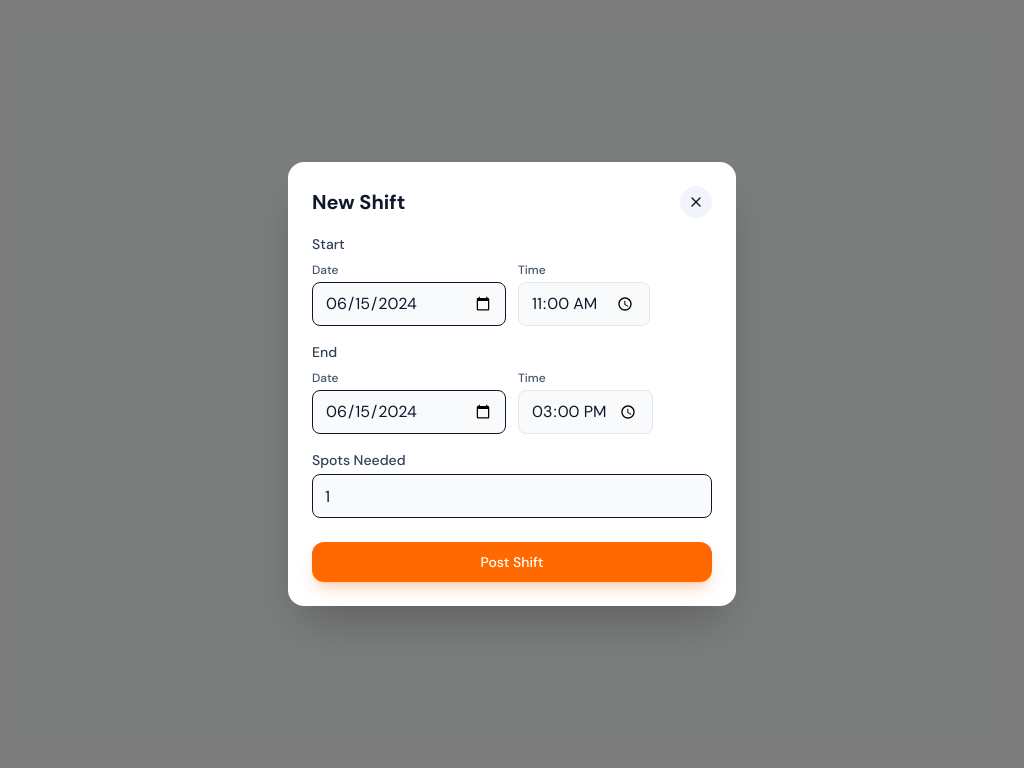
Test: CreateShiftModal › validation › shows error when end time is before start time
Note: Set end time before start time (start is 11:00, set end to 10:00)
Replace the text in the time field with test id "end-time-input" with "10:00" at (585, 412), box [518,390,653,434]
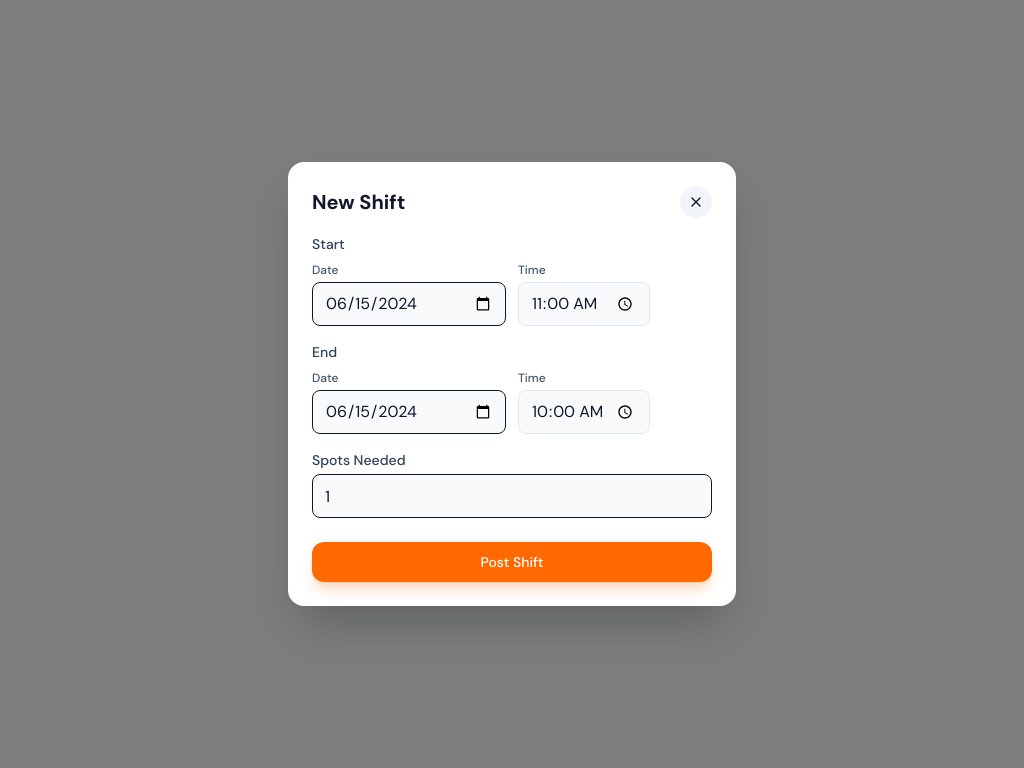
Click the button "Post Shift".
click(512, 562)  # box [312,542,712,582]
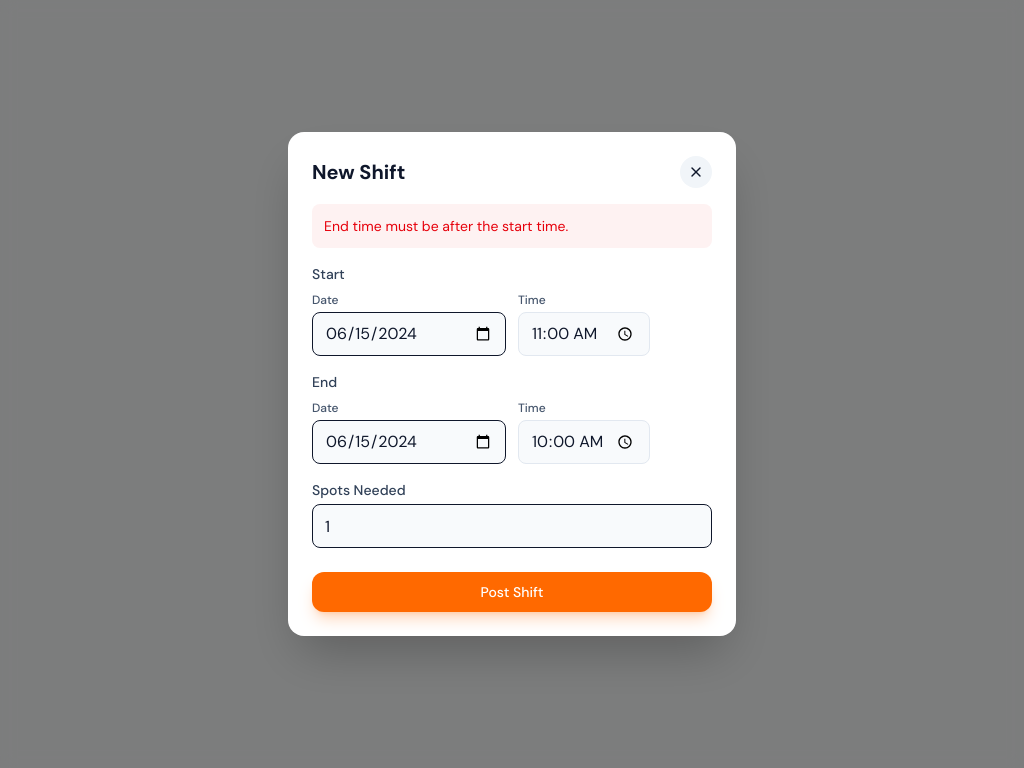
expect the text "End time must be after the start time." is shown: met, box [312,204,712,248]
